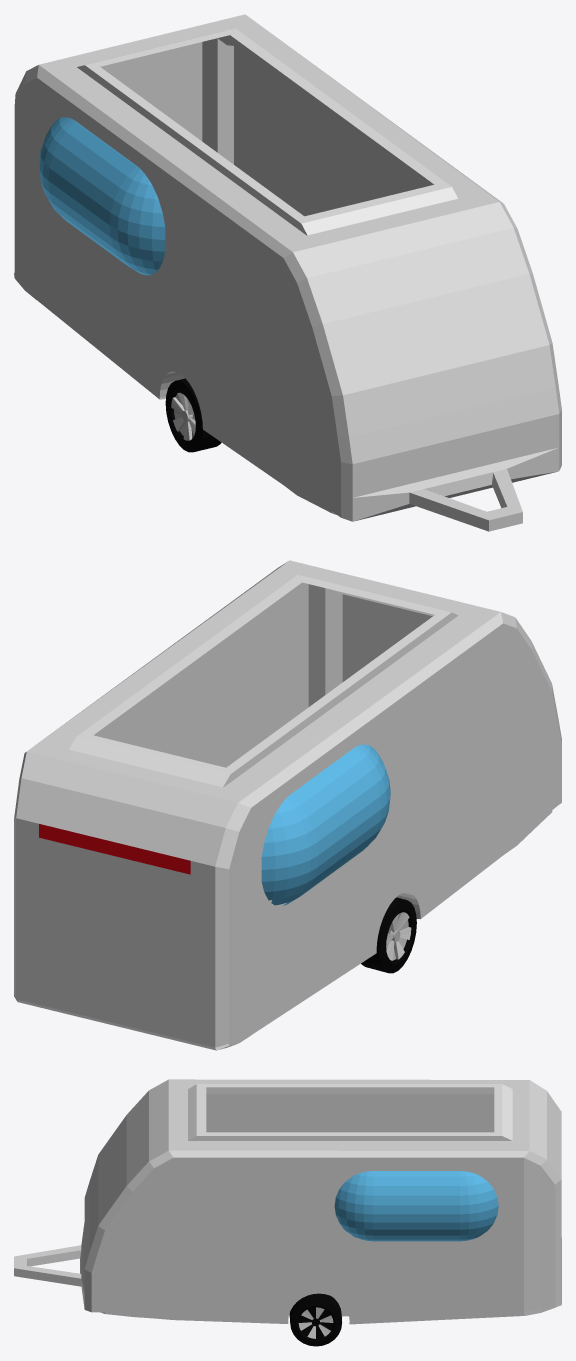
File: Caravan.fbx
3 renders of one model, top to bottom at view 1: azimuth 30°, elevation 25°; view 2: azimuth 150°, elevation 25°; view 3: azimuth 270°, elevation 25°, orthographic. The views are drawn at different scales.
Visible parts, largest first — view 1: Cube, Right Window, Sunroof, frontright; view 2: Cube, Right Window, Sunroof, frontright; view 3: Cube, Left Window, Sunroof, frontleft.
Part boxes in pixels (x1=…): Cube: x1=14, y1=14, x2=561, y2=531; Right Window: x1=39, y1=117, x2=165, y2=275; Sunroof: x1=77, y1=28, x2=457, y2=235; frontright: x1=165, y1=378, x2=221, y2=452; Cube: x1=14, y1=560, x2=561, y2=1050; Right Window: x1=261, y1=744, x2=390, y2=905; Sunroof: x1=69, y1=575, x2=458, y2=787; frontright: x1=361, y1=897, x2=416, y2=973; Cube: x1=14, y1=1079, x2=561, y2=1324; Left Window: x1=334, y1=1171, x2=498, y2=1241; Sunroof: x1=188, y1=1084, x2=512, y2=1140; frontleft: x1=289, y1=1293, x2=342, y2=1346.
Bounding box in the file's own units: 450 × 445 × 1116.
